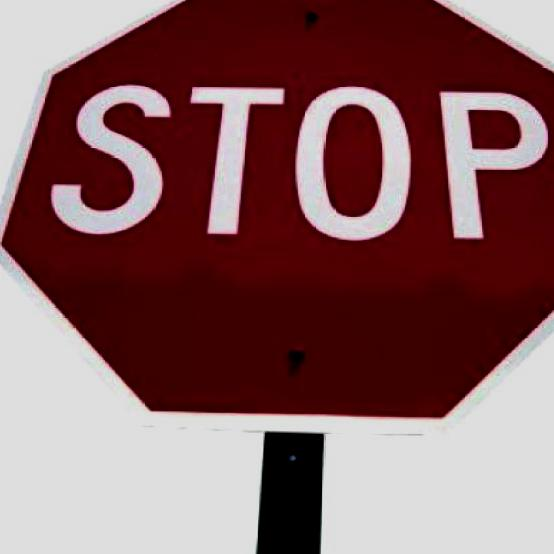stop_sign: (0, 0, 554, 434)
